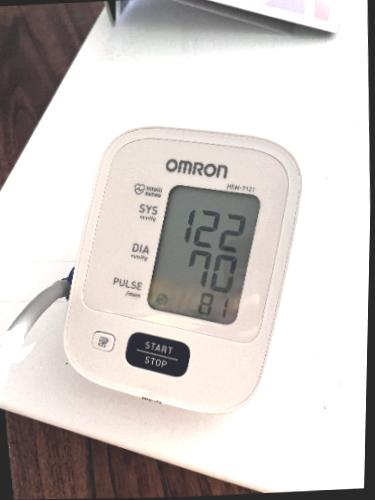bpm: (142, 175, 264, 330)
